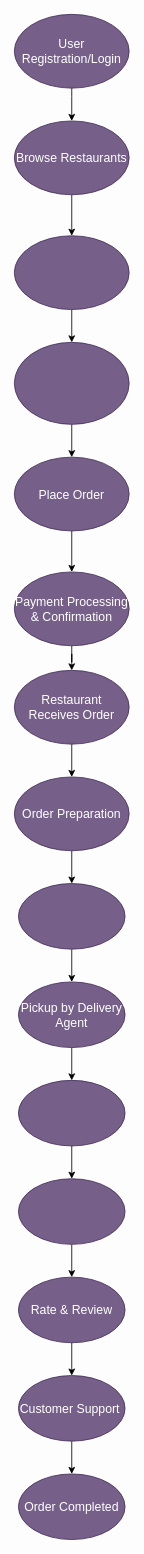
This 144x1554 diagram has some shape labels left out. Each missing label, with the box of its shape:
Add to Cart: (14, 342, 129, 424)
Assign Delivery Partner: (18, 883, 125, 949)
Live Order Tracking: (18, 1080, 125, 1146)
Order Delivered: (18, 1178, 125, 1244)
View Menu & Items: (14, 235, 129, 310)
